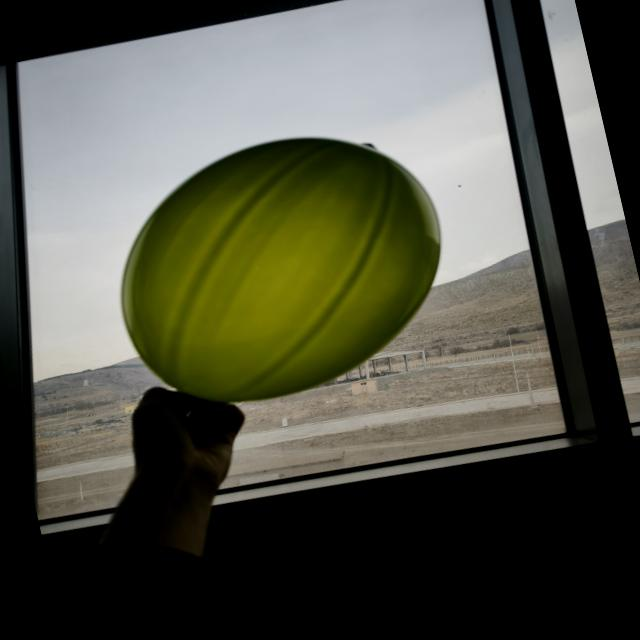balloon: (121, 138, 440, 400), (302, 254, 304, 256)
